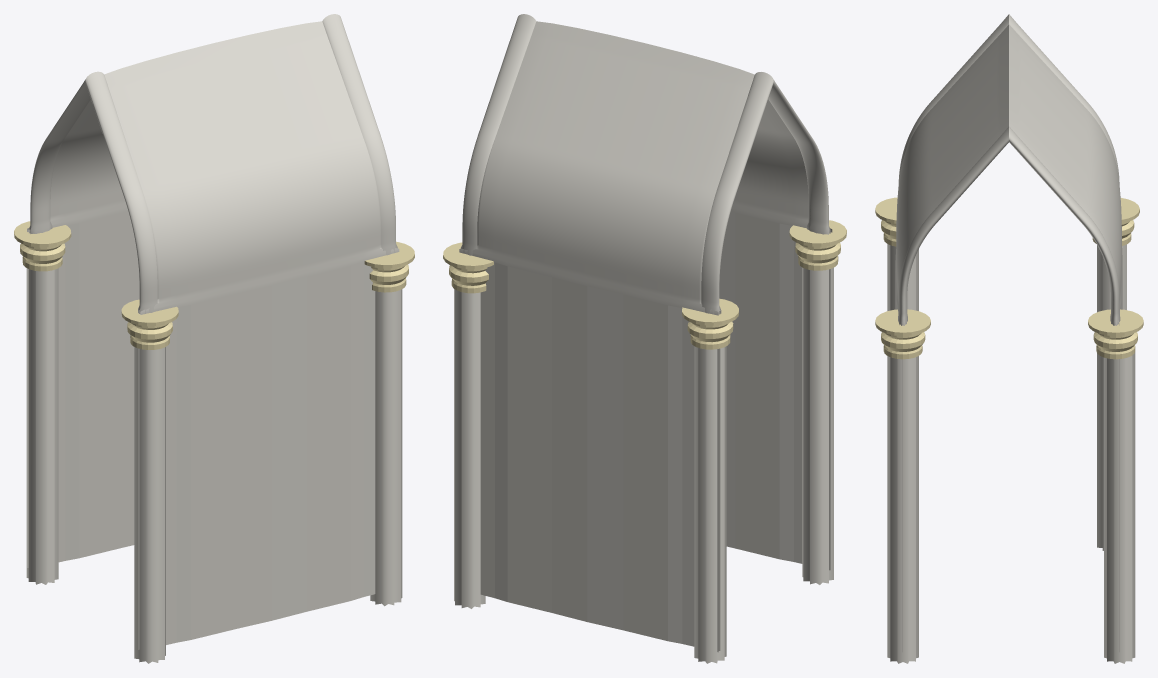
File: arch 1.fbx
3 views of the same model, side by side, from view 1: azimuth 30°, elevation 25°; view 2: azimuth 150°, elevation 25°; view 3: azimuth 270°, elevation 25° (orthographic). The views are drawn at different scales.
Parts seen in each view (by area): view 1: pCylinder16, Column2, Column, Column1, pCylinder13, pCylinder14, Crown2, Crown, Crown1; view 2: pCylinder16, Column2, Column, Column3, pCylinder13, pCylinder14, Crown, Crown2, Crown3; view 3: pCylinder16, Column3, Column1, pCylinder14, Column2, pCylinder13, Crown3, Crown1, Column, Crown, Crown2.
Boxes of the visible parts, left/top/right/bottom form: pCylinder16: left=27, top=21, right=399, bottom=649; Column2: left=26, top=268, right=58, bottom=584; Column: left=134, top=347, right=165, bottom=663; Column1: left=370, top=289, right=402, bottom=606; pCylinder13: left=28, top=71, right=157, bottom=313; pCylinder14: left=322, top=14, right=397, bottom=255; Crown2: left=14, top=221, right=71, bottom=271; Crown: left=121, top=299, right=178, bottom=349; Crown1: left=364, top=241, right=414, bottom=292; pCylinder16: left=459, top=21, right=832, bottom=652; Column2: left=694, top=346, right=726, bottom=663; Column: left=802, top=267, right=833, bottom=584; Column3: left=454, top=289, right=485, bottom=608; pCylinder13: left=701, top=72, right=830, bottom=314; pCylinder14: left=460, top=14, right=536, bottom=255; Crown: left=789, top=220, right=846, bottom=270; Crown2: left=682, top=298, right=738, bottom=349; Crown3: left=443, top=242, right=493, bottom=293; pCylinder16: left=895, top=24, right=1122, bottom=651; Column3: left=1104, top=352, right=1135, bottom=663; Column1: left=887, top=356, right=918, bottom=663; pCylinder14: left=898, top=126, right=1120, bottom=325; Column2: left=1097, top=244, right=1126, bottom=550; pCylinder13: left=898, top=14, right=1119, bottom=183; Crown3: left=1088, top=309, right=1143, bottom=359; Crown1: left=875, top=309, right=930, bottom=359; Column: left=887, top=244, right=918, bottom=310; Crown: left=875, top=197, right=897, bottom=246; Crown2: left=1092, top=198, right=1139, bottom=245.
Bounding box in the file's own units: 14.23 × 25.93 × 11.91.
